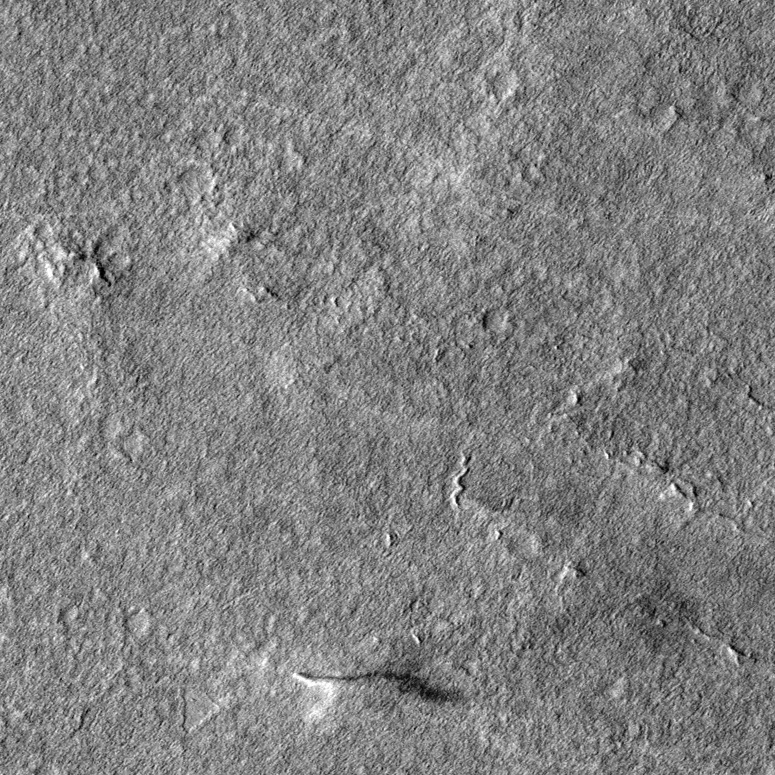dust_devil: (291, 670, 466, 720)
